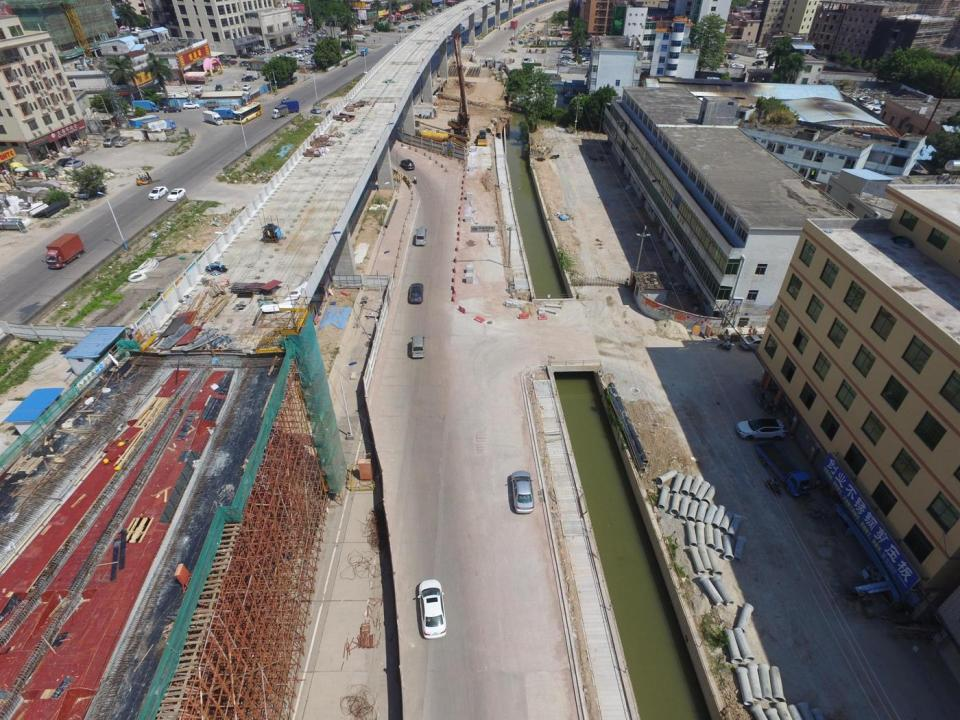bus: (232, 102, 262, 124)
car: (414, 578, 448, 640), (505, 471, 535, 516), (736, 419, 785, 442), (740, 334, 770, 349), (407, 282, 423, 306), (149, 186, 168, 200), (167, 186, 184, 201), (400, 159, 415, 172), (65, 159, 84, 169), (114, 138, 132, 147), (56, 158, 72, 167), (164, 105, 181, 112), (182, 102, 199, 109), (162, 129, 174, 136), (241, 76, 254, 82), (193, 84, 202, 92), (287, 53, 299, 59), (303, 46, 315, 52), (311, 107, 321, 114), (730, 63, 744, 68), (156, 103, 166, 110), (255, 48, 265, 55), (294, 50, 308, 55), (280, 76, 287, 86), (556, 62, 567, 68), (566, 60, 577, 66), (561, 58, 572, 64), (560, 54, 571, 60), (239, 61, 250, 67), (226, 60, 237, 66), (300, 50, 311, 56), (307, 36, 318, 42), (582, 61, 591, 68), (262, 48, 274, 53), (284, 51, 296, 56), (243, 84, 251, 91), (215, 84, 222, 92), (582, 56, 593, 61), (246, 52, 255, 58), (523, 57, 533, 62), (583, 57, 593, 62), (582, 49, 592, 54), (563, 46, 573, 51), (310, 54, 318, 60), (753, 61, 762, 66), (562, 49, 571, 54), (524, 59, 535, 63), (304, 48, 315, 52), (295, 48, 306, 52), (253, 49, 260, 55), (221, 58, 229, 63), (240, 54, 250, 58), (561, 60, 570, 64), (581, 54, 590, 58), (294, 53, 303, 57), (425, 11, 432, 16), (407, 25, 418, 28), (731, 54, 739, 58), (350, 26, 358, 30), (400, 18, 408, 22), (344, 49, 350, 54), (310, 60, 316, 65), (371, 28, 378, 32), (406, 16, 413, 20), (412, 16, 419, 20), (336, 31, 345, 34), (414, 23, 420, 27), (394, 21, 400, 25), (305, 60, 310, 64)
truck: (476, 130, 488, 145)
van: (755, 442, 812, 498), (39, 232, 84, 269), (141, 118, 177, 133), (78, 179, 104, 197), (410, 334, 427, 360), (129, 115, 159, 129), (278, 98, 300, 113), (133, 100, 158, 113), (202, 110, 224, 124), (213, 108, 237, 119), (414, 227, 426, 248), (272, 105, 288, 120), (103, 133, 119, 147), (204, 100, 220, 108), (352, 34, 367, 42), (510, 19, 518, 28), (361, 48, 368, 55), (290, 76, 298, 82), (282, 96, 289, 101), (356, 25, 363, 28), (531, 26, 533, 32)
